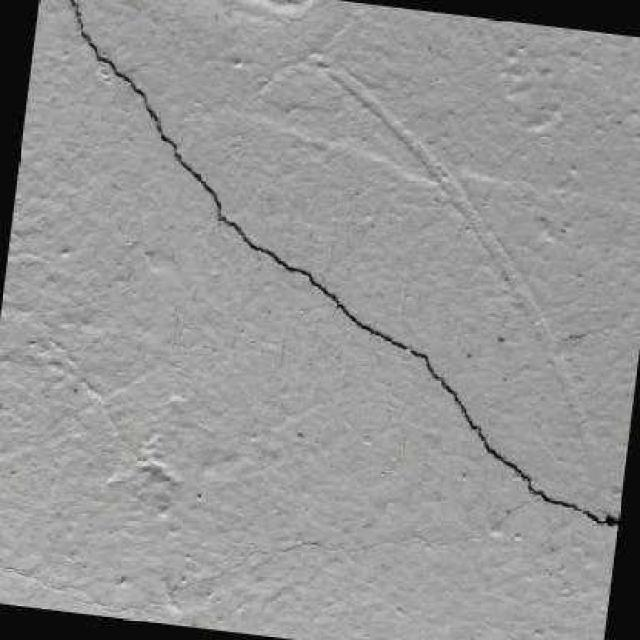D00: (67, 0, 618, 527)
